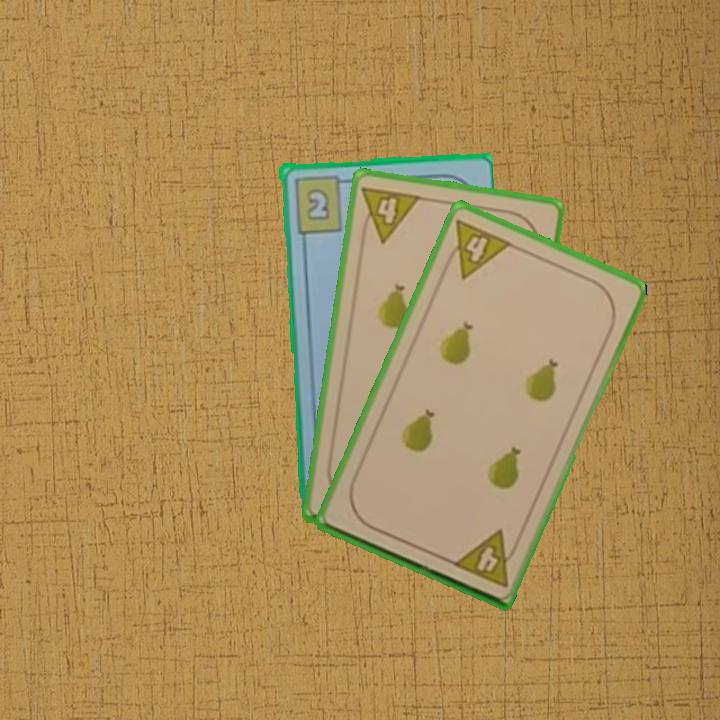2b: (290, 172, 352, 235)
4p: (439, 215, 515, 282), (449, 526, 523, 590), (357, 182, 424, 246)
